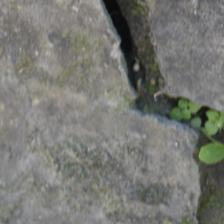Crack: (47, 2, 152, 132)
